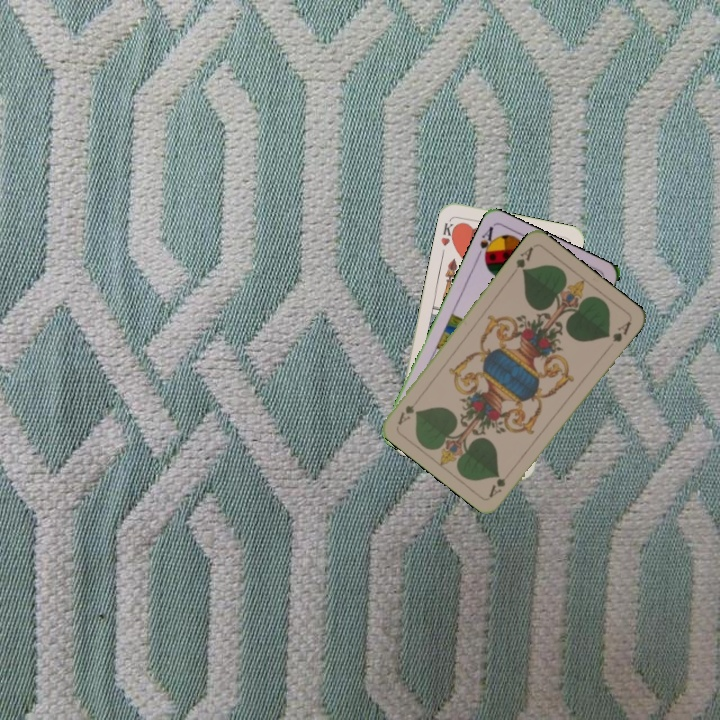GA: (508, 242, 536, 278), (485, 474, 508, 500)
HK: (437, 215, 460, 248)
SA: (472, 222, 499, 264)
